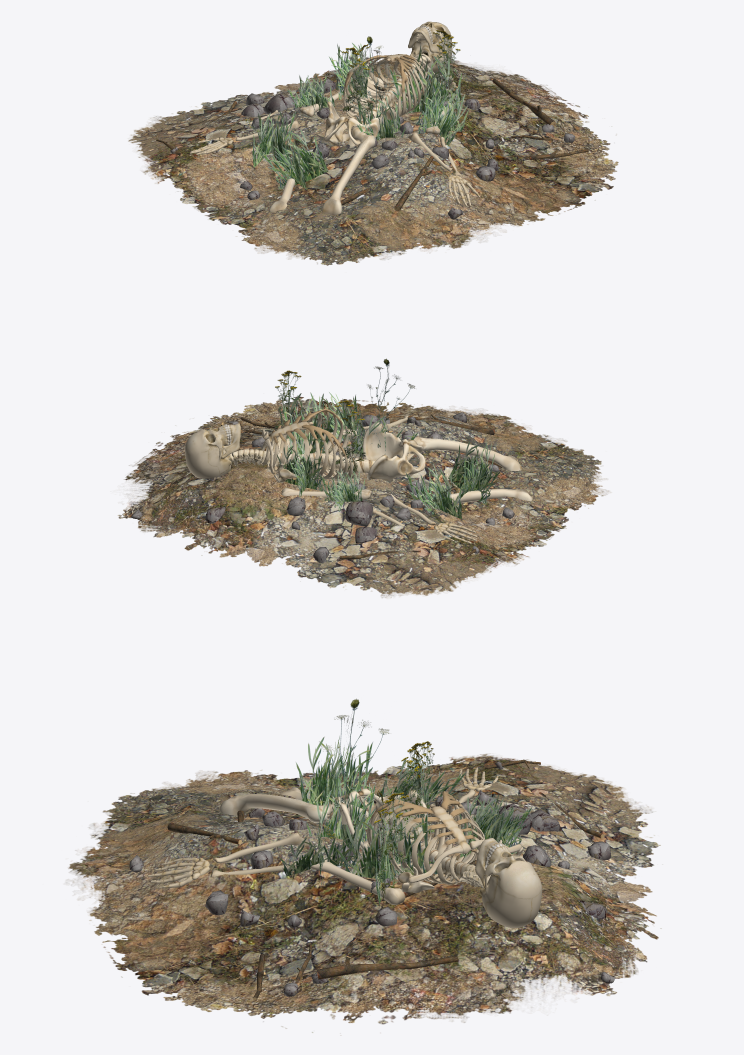
Rendered from remains.glb.
3 views of the same model, one above another, from view 1: azimuth 30°, elevation 25°; view 2: azimuth 150°, elevation 25°; view 3: azimuth 270°, elevation 25° (orthographic). The views are drawn at different scales.
Visible parts, largest first — view 1: Object_2, Object_6, Object_3, Object_4, Object_8, Object_7, Object_5; view 2: Object_2, Object_6, Object_3, Object_4, Object_8, Object_5, Object_7; view 3: Object_2, Object_6, Object_4, Object_3, Object_8, Object_5, Object_7.
Part boxes in pixels (<box>): Object_2: <box>128,57,618,265</box>; Object_6: <box>245,30,469,190</box>; Object_3: <box>324,53,431,153</box>; Object_4: <box>190,54,479,214</box>; Object_8: <box>170,57,575,219</box>; Object_7: <box>156,78,588,211</box>; Object_5: <box>408,21,452,72</box>; Object_2: <box>117,396,610,598</box>; Object_6: <box>267,358,501,518</box>; Object_3: <box>228,409,425,481</box>; Object_4: <box>262,415,532,543</box>; Object_8: <box>131,412,514,563</box>; Object_5: <box>185,423,240,478</box>; Object_7: <box>185,414,502,562</box>; Object_2: <box>66,753,661,1035</box>; Object_6: <box>279,698,532,904</box>; Object_4: <box>148,767,523,904</box>; Object_3: <box>327,788,490,888</box>; Object_8: <box>129,761,614,996</box>; Object_5: <box>475,838,541,928</box>; Object_7: <box>167,759,604,1000</box>.
Bounding box in the file's own units: 8.08 × 2.5 × 8.08.
Materials: 7 (7 with a texture image).
